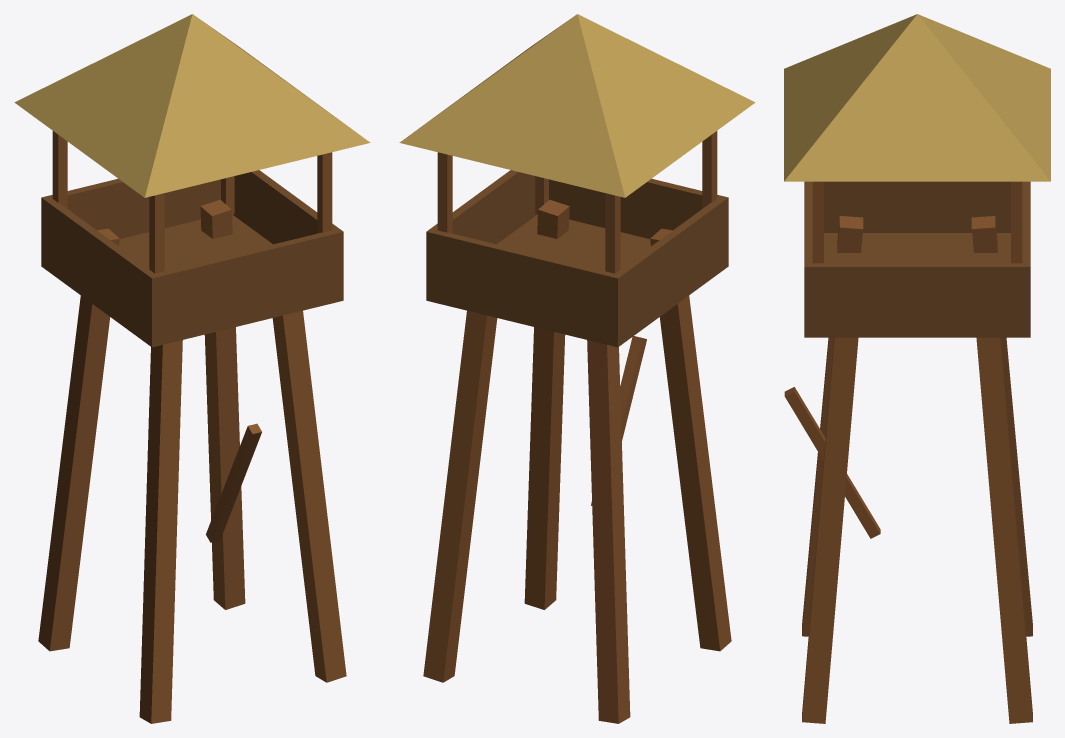
File: watchtower.glb
3 views of the same model, side by side, from view 1: azimuth 30°, elevation 25°; view 2: azimuth 150°, elevation 25°; view 3: azimuth 270°, elevation 25° (orthographic). The views are drawn at different scales.
Visible parts, largest first — view 1: watchtower; view 2: watchtower; view 3: watchtower.
Boxes of the visible parts, left/top/right/bottom form: watchtower: left=14, top=14, right=370, bottom=723; watchtower: left=399, top=14, right=755, bottom=723; watchtower: left=784, top=14, right=1050, bottom=723.
Size of the model in its own units: 2.83 by 7.75 by 2.83.
